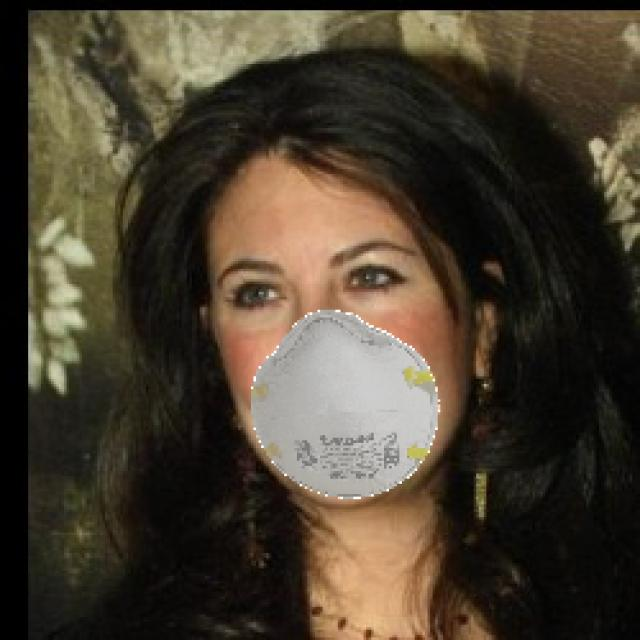mask: (226, 311, 465, 503)
